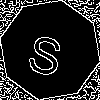S: (25, 25, 68, 78)
